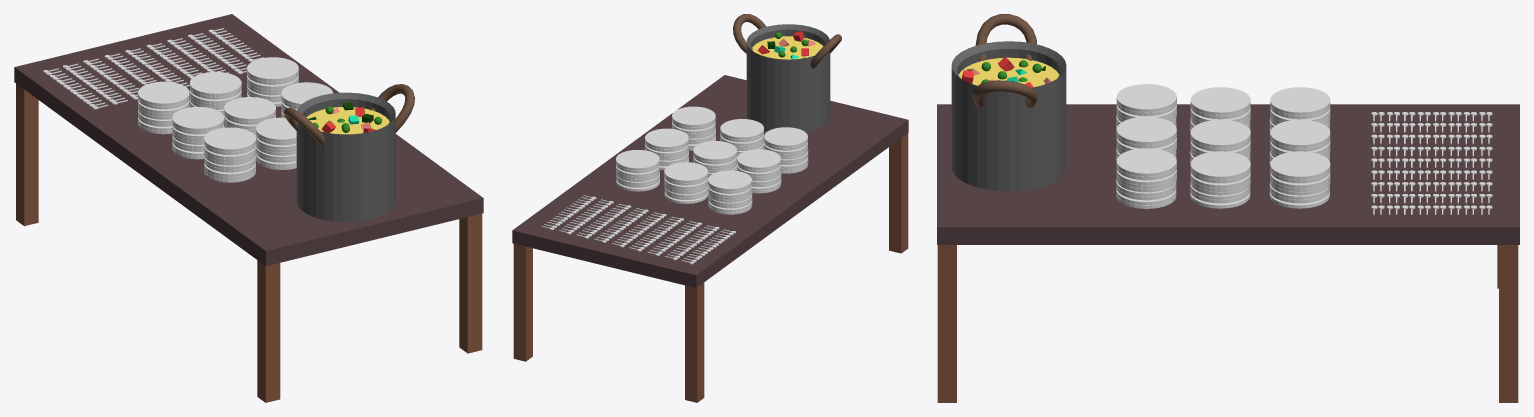
The model's file is Stoł_z_garem.fbx.
The picture shows the model from 3 angles, left to right: view 1: azimuth 30°, elevation 25°; view 2: azimuth 150°, elevation 25°; view 3: azimuth 270°, elevation 25°; orthographic projection. The views are drawn at different scales.
Parts seen in each view (by area): view 1: Cube, Cylinder, Cube.001, Cube.002, Cube.004, Cylinder.001, Cylinder.041, Cylinder.075, Cylinder.007, Cylinder.068, Cylinder.059, Cylinder.050 (+4 smaller); view 2: Cube, Cylinder, Cube.004, Cube.003, Cube.001, Cylinder.001, Cylinder.025, Cylinder.034, Cylinder.059, Cylinder.068, Cylinder.016, Cylinder.075 (+5 smaller); view 3: Cube, Cylinder, Cube.002, Cube.003, Cylinder.001, Cylinder.016, Cylinder.059, Cylinder.041, Cylinder.068, Cylinder.007, Cylinder.034, Cylinder.050 (+4 smaller).
Boxes of the visible parts, x1,y1,x2,y2 form: Cube: (14,14,483,265); Cylinder: (296,92,395,221); Cube.001: (257,260,280,402); Cube.002: (459,213,482,353); Cube.004: (16,83,38,226); Cylinder.001: (306,107,389,134); Cylinder.041: (224,97,275,121); Cylinder.075: (247,57,298,81); Cylinder.007: (204,127,255,152); Cylinder.068: (190,72,241,96); Cylinder.059: (138,81,189,106); Cylinder.050: (172,106,223,131); Cube: (512,75,908,287); Cylinder: (746,24,830,131); Cube.004: (685,282,704,402); Cube.003: (513,243,532,361); Cube.001: (889,133,908,253); Cylinder.001: (752,36,823,59); Cylinder.025: (672,106,715,127); Cylinder.034: (645,128,688,149); Cylinder.059: (708,170,751,191); Cylinder.068: (664,162,707,182); Cylinder.016: (720,119,763,139); Cylinder.075: (616,150,659,170); Cube: (937,104,1519,244); Cylinder: (951,41,1066,191); Cube.002: (937,245,956,402); Cube.003: (1499,245,1518,402); Cylinder.001: (958,57,1059,87); Cylinder.016: (1116,116,1176,145); Cylinder.059: (1270,87,1330,115); Cylinder.041: (1190,119,1250,148); Cylinder.068: (1270,119,1330,148); Cylinder.007: (1116,84,1176,112); Cylinder.034: (1190,151,1250,179); Cylinder.050: (1190,87,1250,115).
Size of the model in its own units: 300 by 339 by 600.
